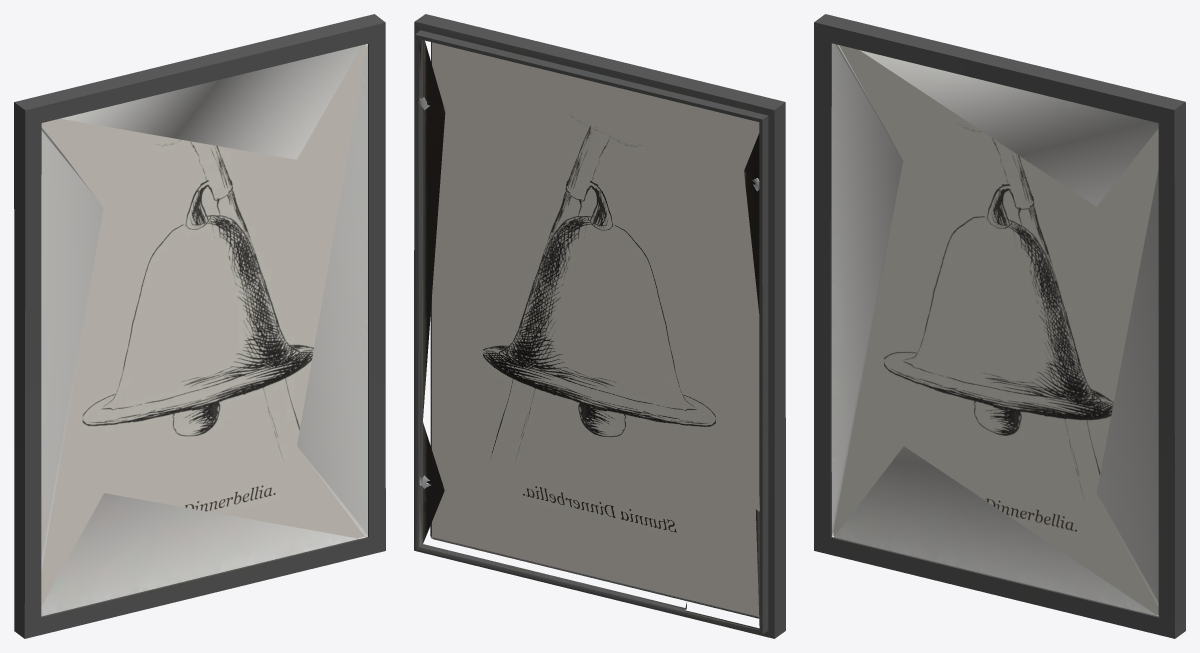
3 renders of one model, left to right at view 1: azimuth 30°, elevation 25°; view 2: azimuth 150°, elevation 25°; view 3: azimuth 330°, elevation 25°, orthographic.
Visible parts, largest first — view 1: lomviken-21x30-black.001, print_lear-dinnerbell-21x30.002; view 2: print_lear-dinnerbell-21x30.002, lomviken-21x30-black.001; view 3: lomviken-21x30-black.001, print_lear-dinnerbell-21x30.002.
Boxes of the visible parts, x1,y1,x2,y2 form: lomviken-21x30-black.001: [14, 14, 385, 638]; print_lear-dinnerbell-21x30.002: [41, 44, 366, 606]; print_lear-dinnerbell-21x30.002: [432, 42, 759, 616]; lomviken-21x30-black.001: [414, 14, 785, 638]; lomviken-21x30-black.001: [814, 14, 1185, 638]; print_lear-dinnerbell-21x30.002: [833, 45, 1158, 615].
Bounding box in the file's own units: 0.2243 × 0.3143 × 0.0182.
Materials: 3 (2 with a texture image).
